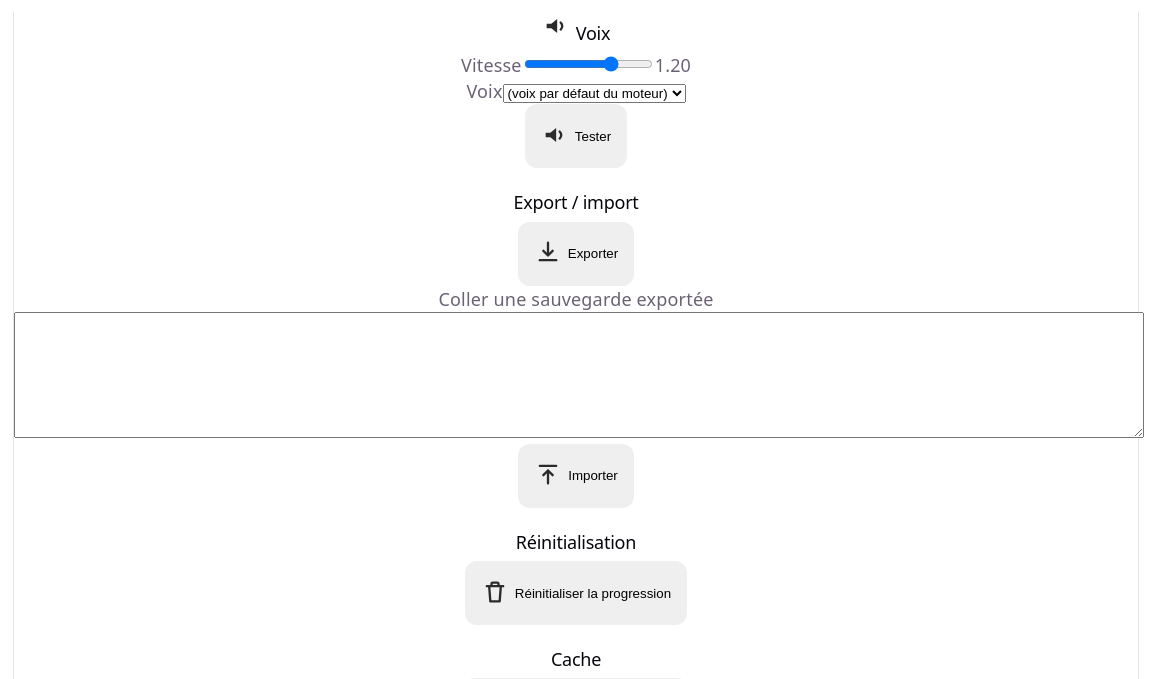
Test: ParentSettings — réinitialisation à double confirmation › annuler à la première étape referme la confirmation sans rien effacer
Click the button with test id "parent-reset-start" at (576, 593), box [465, 561, 687, 625]
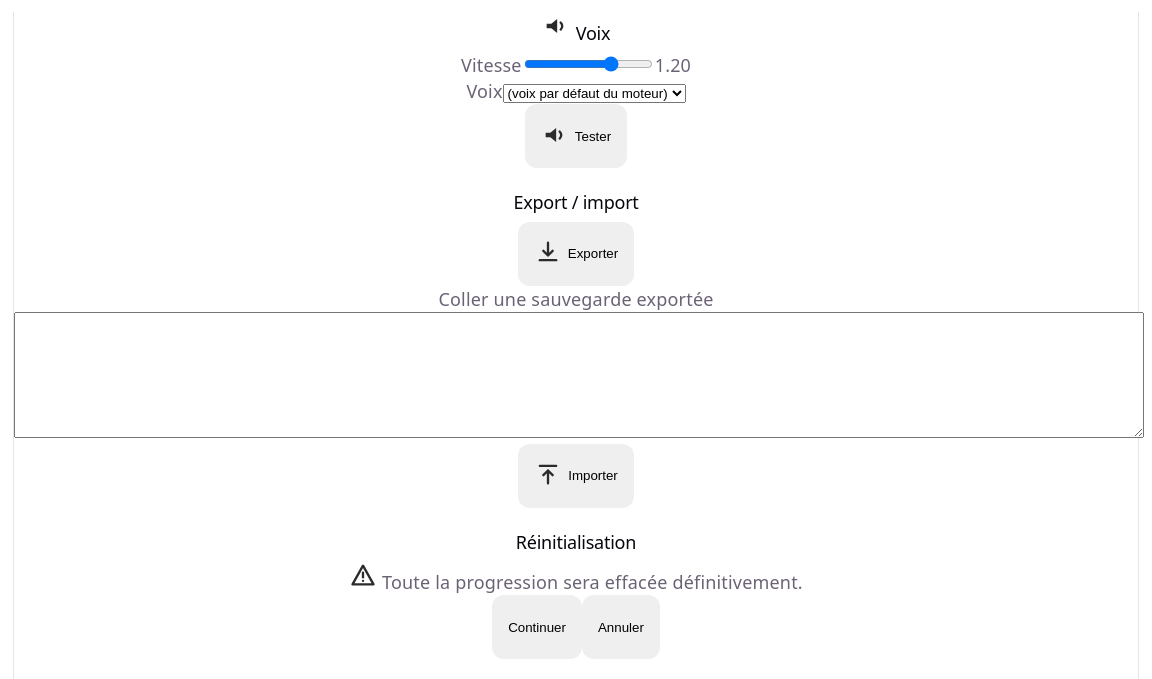
Click the button with test id "parent-reset-cancel" at (621, 627), box [582, 595, 660, 659]
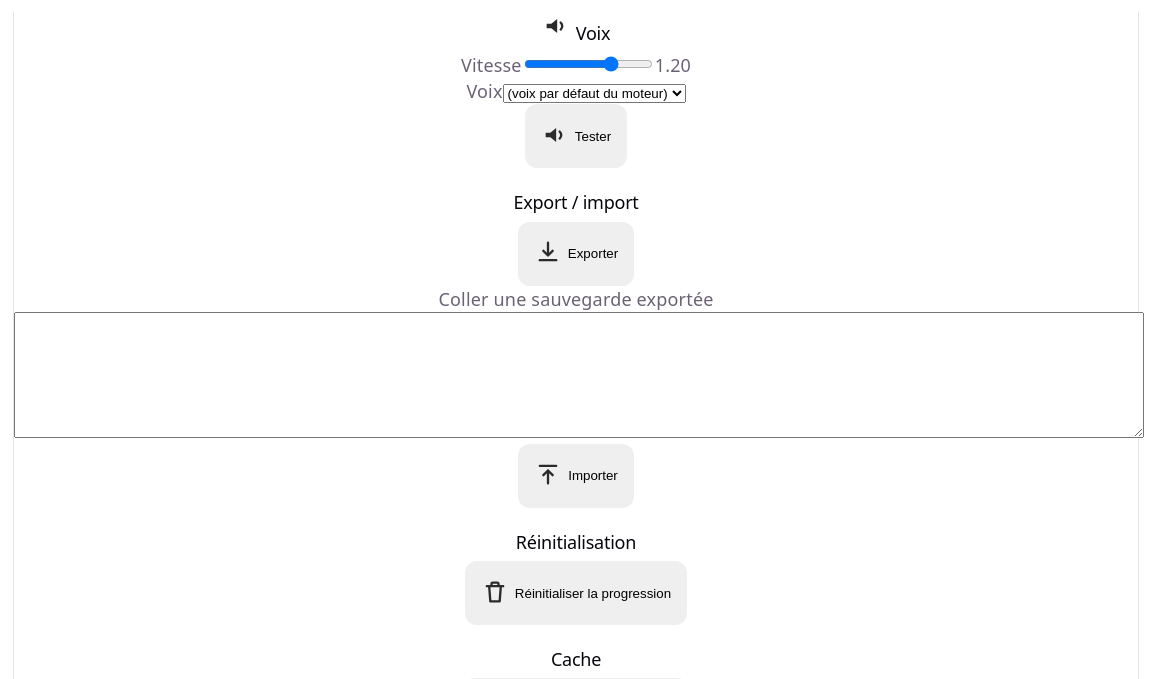
Expected: the element with test id "parent-reset-confirm-1" is gone
